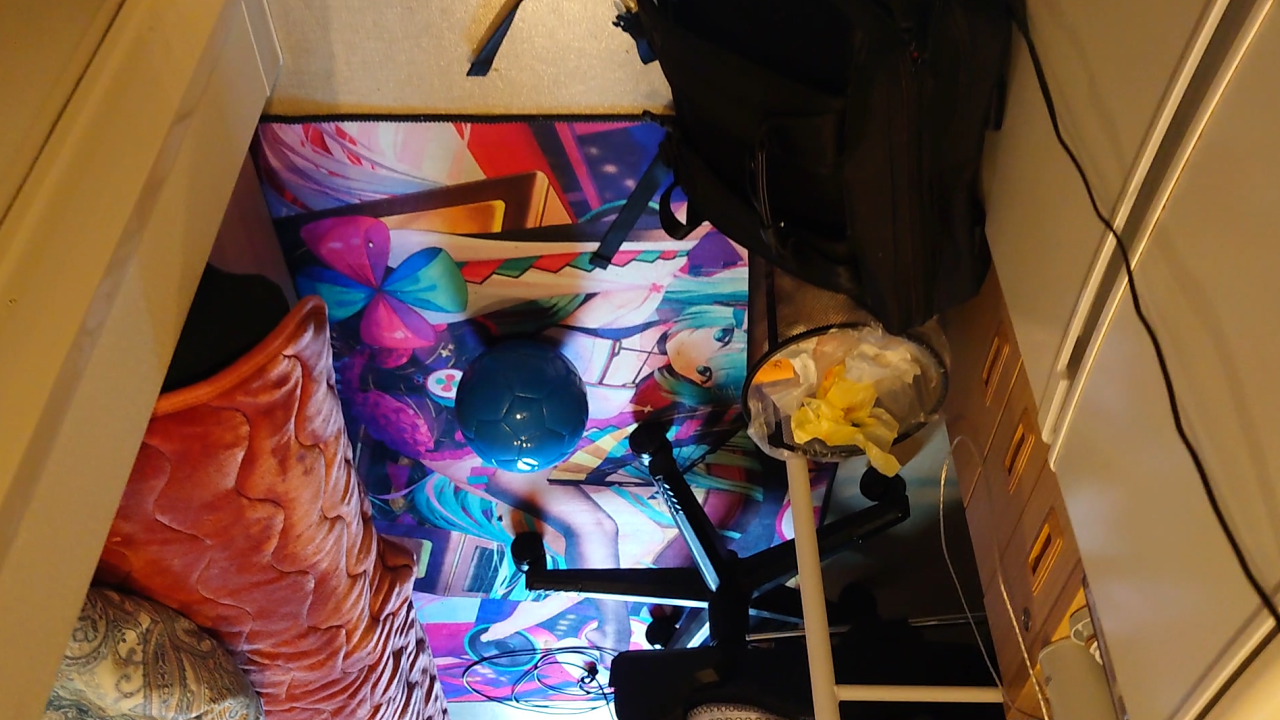blue: (458, 341, 589, 476)
